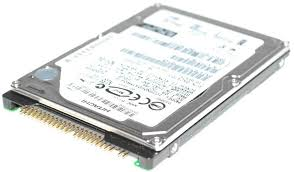IDE Hard Drive: (8, 2, 292, 172)
